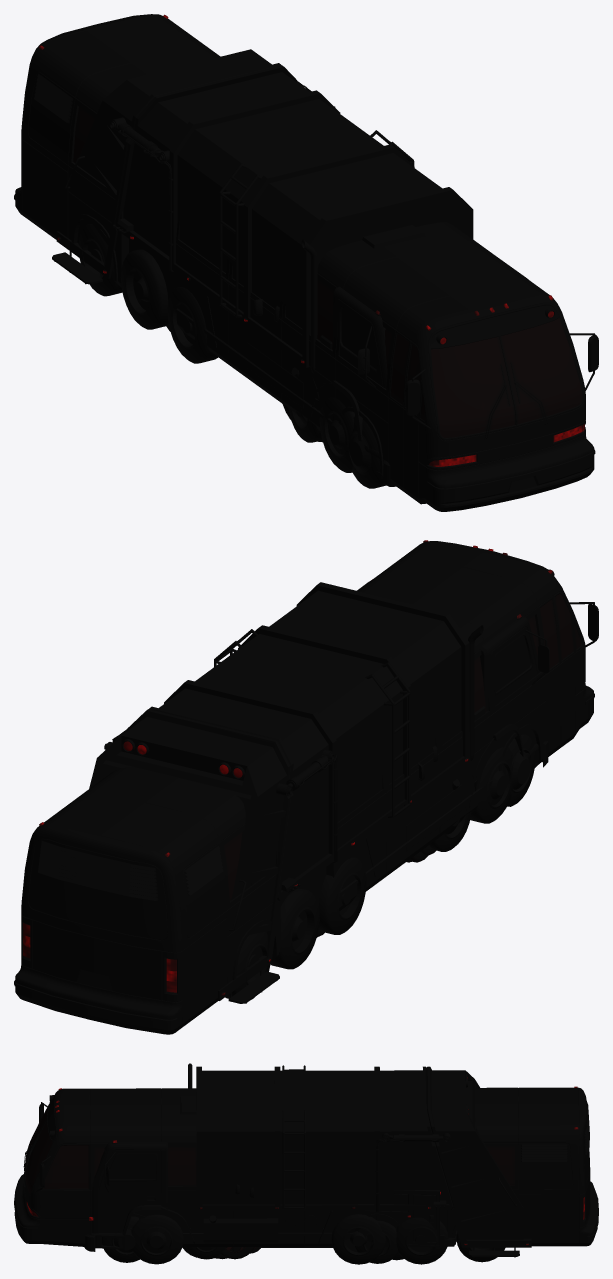
Rendered from traffic.glb.
3 views of the same model, one above another, from view 1: azimuth 30°, elevation 25°; view 2: azimuth 150°, elevation 25°; view 3: azimuth 270°, elevation 25° (orthographic). The views are drawn at different scales.
Visible parts, largest first — view 1: citybus.001, garbage, service; view 2: citybus.001, garbage, service; view 3: garbage, citybus.001, service, van.
Boxes of the visible parts, x1=… form: citybus.001: x1=14, y1=14, x2=598, y2=511; garbage: x1=52, y1=49, x2=528, y2=486; service: x1=253, y1=299, x2=321, y2=442; citybus.001: x1=14, y1=540, x2=598, y2=1034; garbage: x1=89, y1=579, x2=549, y2=1003; service: x1=417, y1=762, x2=477, y2=851; garbage: x1=84, y1=1063, x2=531, y2=1264; citybus.001: x1=14, y1=1086, x2=598, y2=1262; service: x1=182, y1=1187, x2=456, y2=1263; van: x1=187, y1=1184, x2=457, y2=1260.
Bounding box in the file's own units: 2.62 × 2.83 × 9.95.
Materials: 14 (14 with a texture image).
